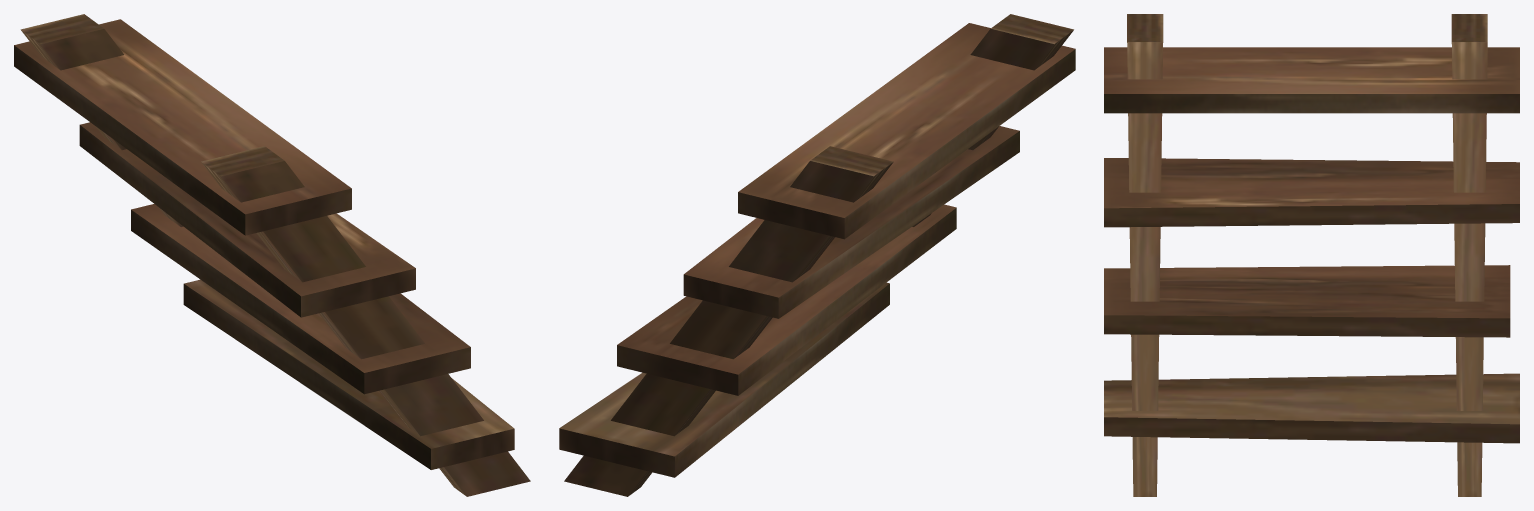
The model's file is FB5_muban03.FBX.
3 renders of one model, left to right at view 1: azimuth 30°, elevation 25°; view 2: azimuth 150°, elevation 25°; view 3: azimuth 270°, elevation 25°, orthographic. The views are drawn at different scales.
Parts seen in each view (by area): view 1: FB5_muban03; view 2: FB5_muban03; view 3: FB5_muban03.
Boxes of the visible parts, x1=… form: FB5_muban03: x1=14, y1=14, x2=530, y2=496; FB5_muban03: x1=559, y1=14, x2=1075, y2=496; FB5_muban03: x1=1104, y1=14, x2=1519, y2=496.
Size of the model in its own units: 1871 by 2190 by 2390.
Materials: 1 (1 with a texture image).
